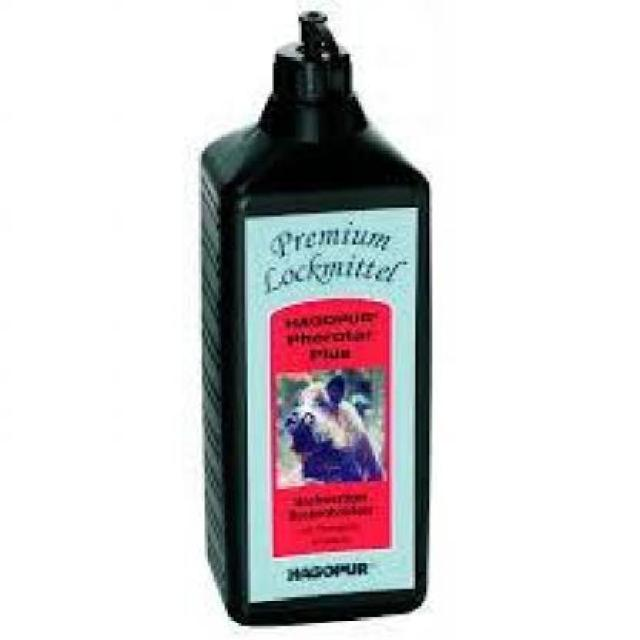wildboar: (279, 366, 383, 486)
